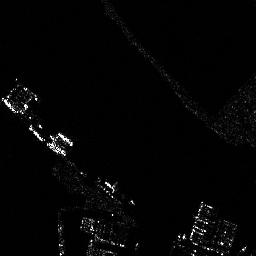ship: (58, 131, 74, 147)
